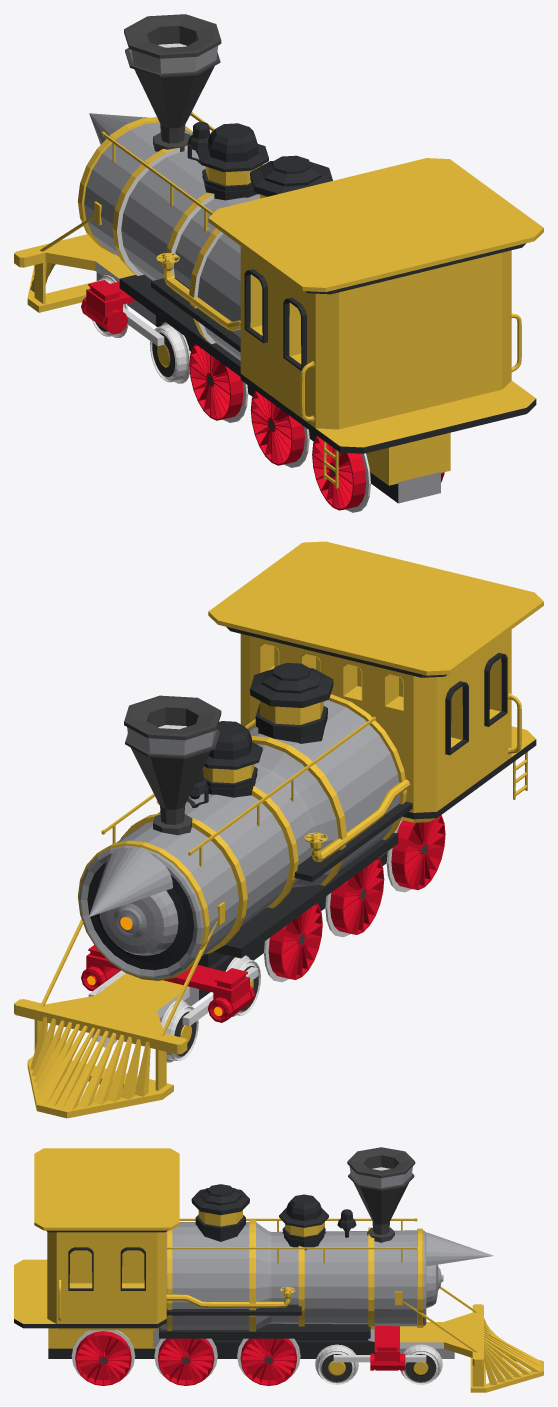
The model's file is locomotive_compressed.glb.
The picture shows the model from 3 angles, top to bottom: view 1: azimuth 30°, elevation 25°; view 2: azimuth 150°, elevation 25°; view 3: azimuth 270°, elevation 25°; orthographic projection. The views are drawn at different scales.
Visible parts, largest first — view 1: loco_oven_room, tank, chimney, bells, cow_catcher, body, base_body, internal_big_wheel, internal_big_wheel.001, internal_big_wheel.002, loco_oven_room.002, windows (+9 smaller); view 2: loco_oven_room, tank, cow_catcher, bells, body, chimney, base_body, light-cover, sides_light_container, internal_big_wheel.002, train_collar, forehead (+10 smaller); view 3: loco_oven_room, tank, cow_catcher, base_body, bells, chimney, body, internal_big_wheel.002, train_collar, internal_big_wheel, internal_big_wheel.001, sides_light_container (+15 smaller).
Boxes of the visible parts, x1,y1,x2,y2 form: loco_oven_room: [208, 158, 543, 488]; tank: [84, 122, 440, 503]; chimney: [124, 14, 221, 151]; bells: [187, 122, 332, 200]; cow_catcher: [14, 202, 135, 312]; body: [77, 112, 263, 330]; base_body: [119, 274, 398, 502]; internal_big_wheel: [189, 344, 243, 420]; internal_big_wheel.001: [250, 390, 304, 465]; internal_big_wheel.002: [312, 435, 444, 510]; loco_oven_room.002: [240, 374, 536, 453]; windows: [244, 269, 306, 370]; loco_oven_room: [208, 541, 543, 857]; tank: [79, 700, 400, 1022]; cow_catcher: [14, 903, 224, 1118]; bells: [187, 663, 333, 807]; body: [78, 698, 409, 980]; chimney: [124, 695, 221, 835]; base_body: [198, 832, 398, 1000]; light-cover: [89, 847, 172, 916]; sides_light_container: [81, 945, 254, 1022]; internal_big_wheel.002: [391, 815, 445, 889]; train_collar: [133, 694, 406, 944]; forehead: [87, 862, 194, 970]; loco_oven_room: [14, 1148, 179, 1348]; tank: [153, 1222, 454, 1358]; cow_catcher: [395, 1286, 543, 1392]; base_body: [48, 1323, 374, 1358]; bells: [191, 1184, 356, 1250]; chimney: [347, 1147, 415, 1242]; body: [166, 1218, 422, 1327]; internal_big_wheel.002: [75, 1331, 131, 1385]; train_collar: [167, 1219, 374, 1331]; internal_big_wheel: [240, 1338, 296, 1385]; internal_big_wheel.001: [158, 1338, 214, 1385]; sides_light_container: [370, 1326, 405, 1370].
Bounding box in the file's own units: 2.87 × 3.58 × 8.09.
